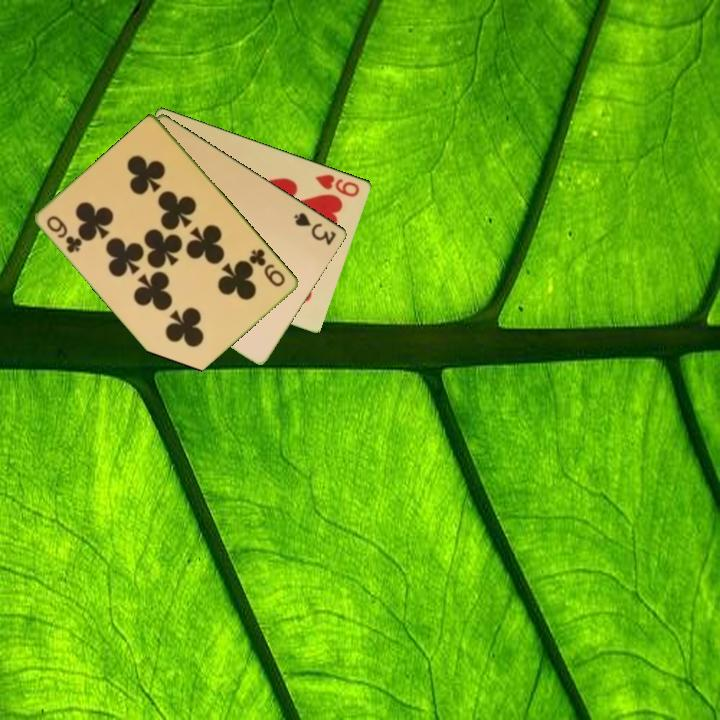3s: (290, 209, 339, 248)
9c: (246, 245, 289, 290), (43, 212, 86, 256)
9h: (312, 170, 363, 200)
